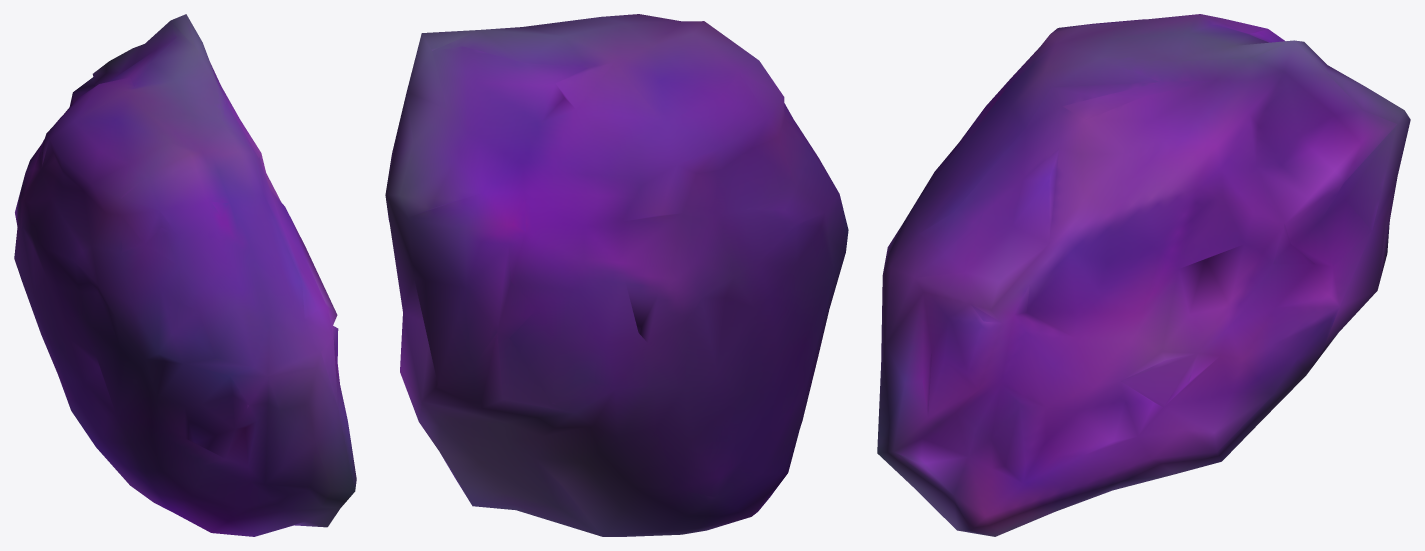
Rendered from gem_swift.glb.
3 renders of one model, left to right at view 1: azimuth 30°, elevation 25°; view 2: azimuth 150°, elevation 25°; view 3: azimuth 270°, elevation 25°, orthographic. The views are drawn at different scales.
Parts seen in each view (by area): view 1: model; view 2: model; view 3: model.
Part boxes in pixels (x1,y1,x2,y2): model: [14, 14, 356, 536]; model: [385, 14, 848, 536]; model: [877, 14, 1410, 536].
Bounding box in the file's own units: 0.2162 × 0.3967 × 0.389.
Materials: 1 (1 with a texture image).
